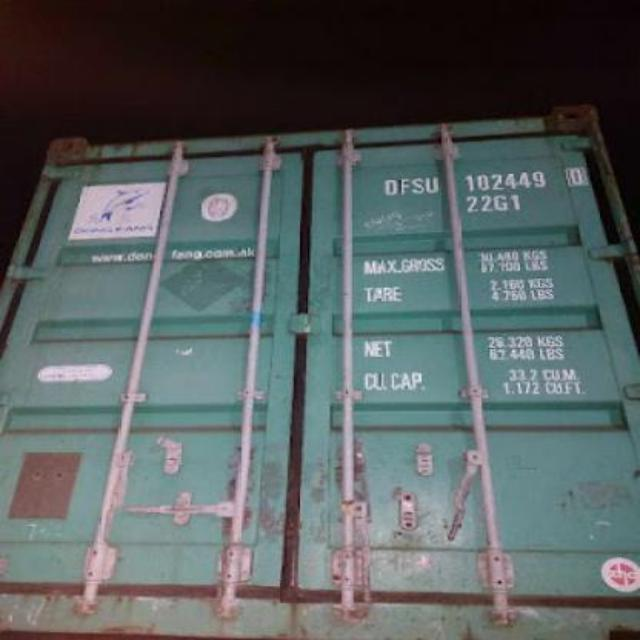0: (476, 175, 492, 193), (568, 170, 586, 182)
1: (466, 176, 476, 192)
2: (490, 170, 506, 193)
4: (502, 172, 518, 190), (518, 170, 532, 188)
9: (532, 170, 548, 188)
D: (384, 180, 398, 196)
F: (398, 178, 410, 196)
S: (410, 176, 426, 194)
U: (424, 176, 440, 194)
